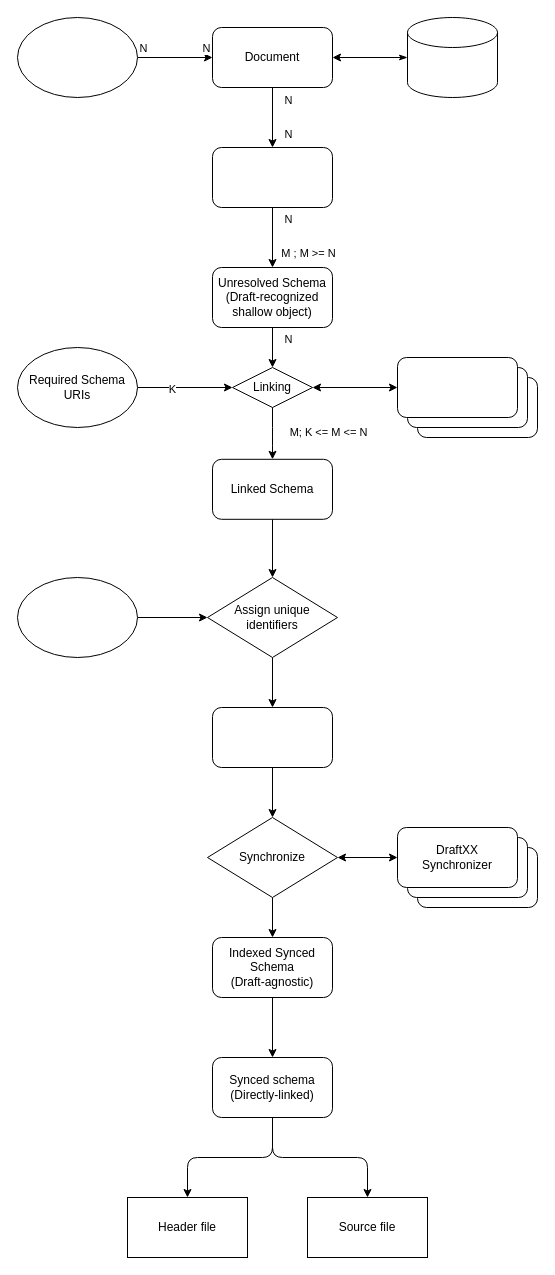
Image size: 555x1275. Some labels were removed from this diagram. Each missing label, with the centre of its shape:
"Draft Recognized Document" belongs at (272,177).
"DraftXX linker" belongs at (457,387).
"Filesystem" belongs at (452,57).
"Identifiable Schema" belongs at (272,737).
"Input paths" belongs at (77,57).
"Preferred schema names" belongs at (77,617).
